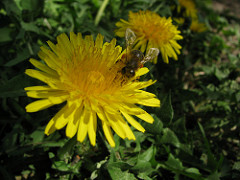dandelion yellow: (23, 29, 162, 151), (112, 7, 184, 65)
